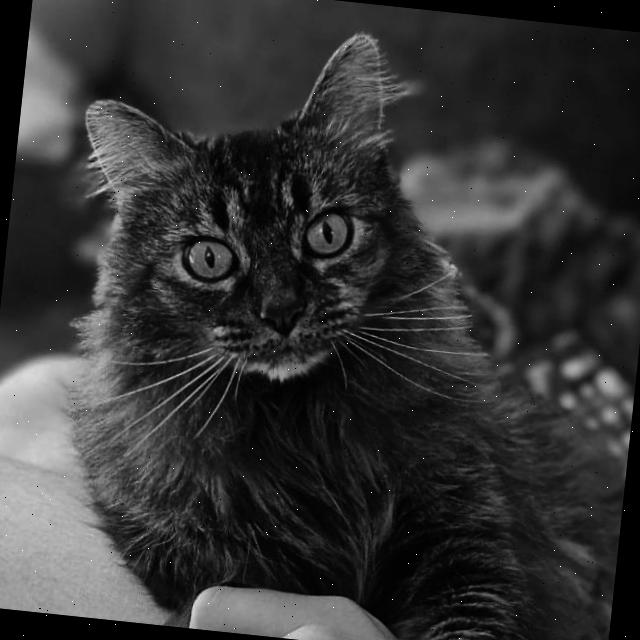domestic_long_hair_cat: (36, 0, 502, 505)
